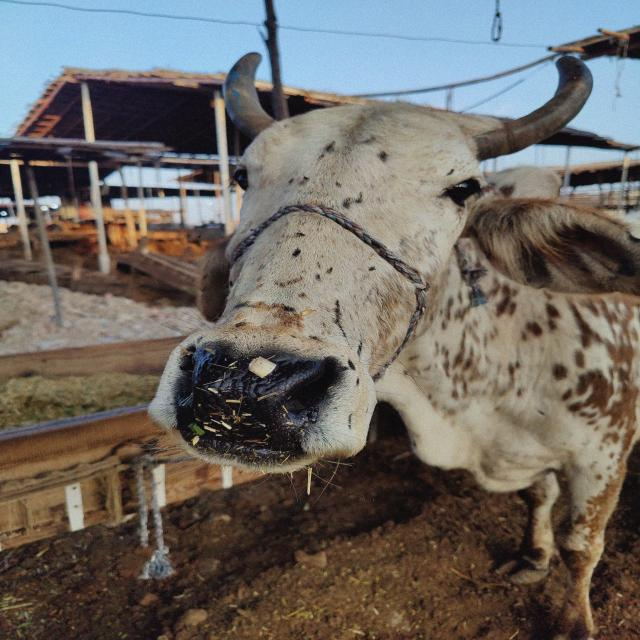muzzles: (168, 329, 340, 456)
